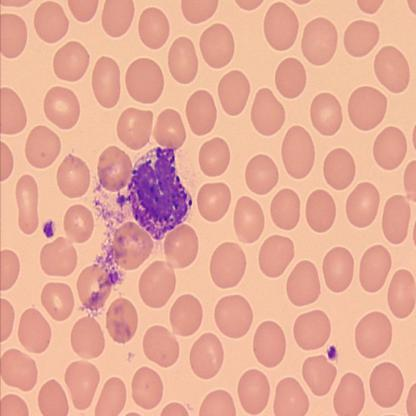Basophil: (126, 143, 193, 241)
